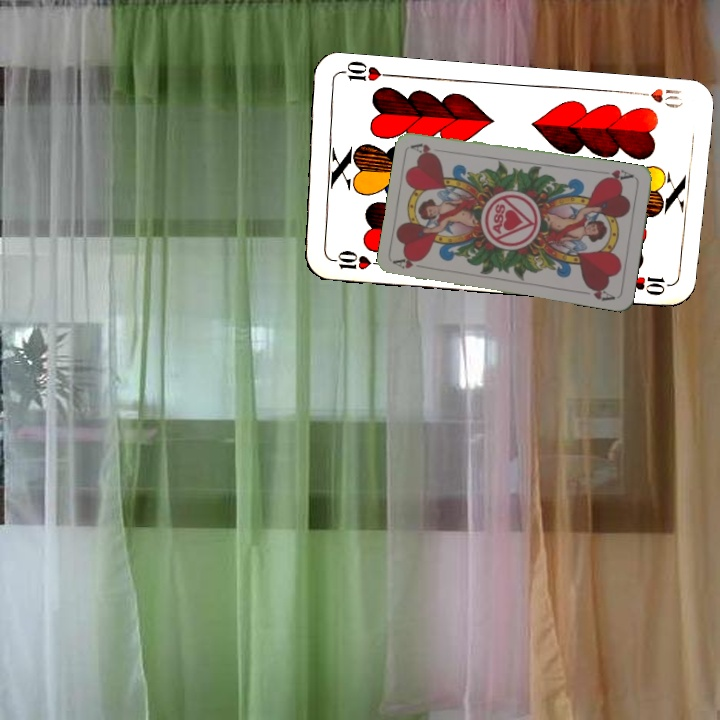H10: (325, 246, 384, 273), (628, 84, 686, 111)
HA: (391, 252, 431, 272), (598, 165, 636, 185)
